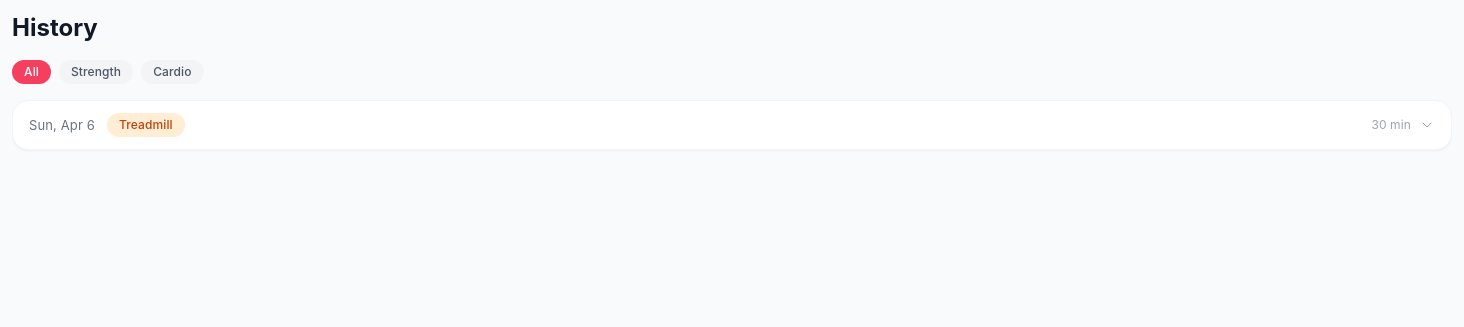
Scenario: History page › expanded cardio session shows type, duration, and calorie estimate
Click the button with test id "session-header".
click(62, 125)  # box left=13, top=101, right=1451, bottom=149
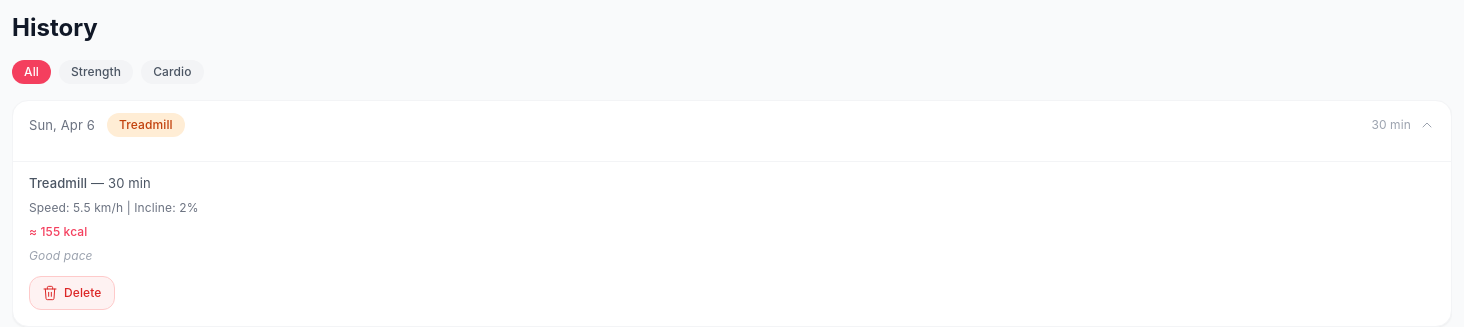
expect the element with test id "cardio-detail" shows "treadmill": met, box left=29, top=175, right=87, bottom=191
expect the element with test id "cardio-detail" shows "30 min": met, box left=29, top=175, right=199, bottom=263
expect the text "≈ 155 kcal" is shown: met, box left=29, top=224, right=87, bottom=239
